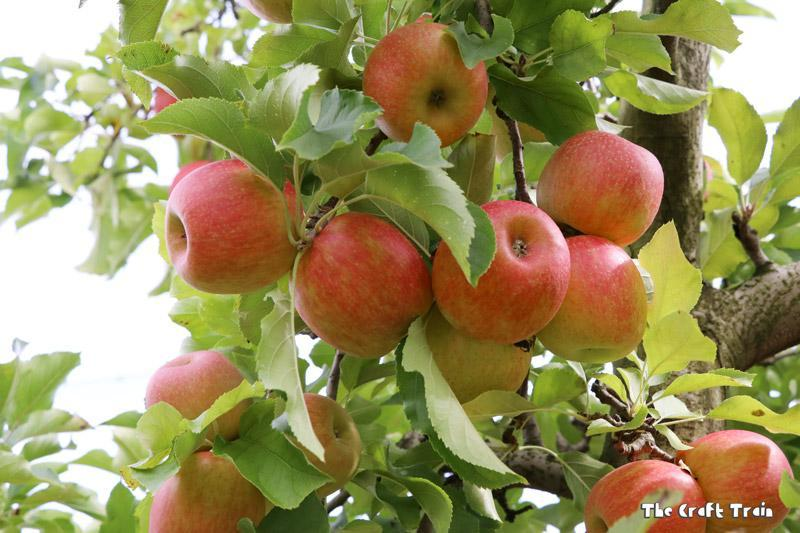apple: (294, 210, 433, 361), (433, 203, 571, 345), (163, 156, 299, 296), (363, 20, 487, 146), (535, 129, 665, 247), (534, 236, 648, 363), (684, 428, 796, 526), (144, 445, 264, 531), (584, 458, 708, 531), (144, 347, 247, 420), (292, 391, 363, 490)
